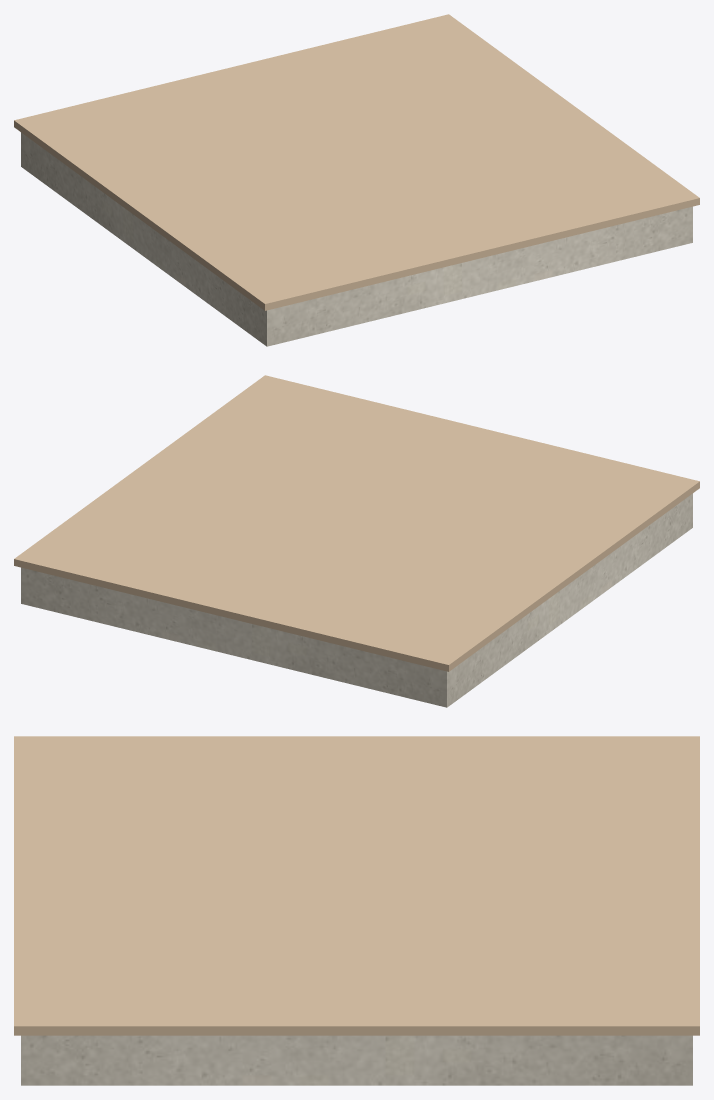
File: floor_tile.glb
The picture shows the model from 3 angles, top to bottom: view 1: azimuth 30°, elevation 25°; view 2: azimuth 150°, elevation 25°; view 3: azimuth 270°, elevation 25°; orthographic projection. The views are drawn at different scales.
Visible parts, largest first — view 1: floor_tile_floor, floor_tile_plaster; view 2: floor_tile_floor, floor_tile_plaster; view 3: floor_tile_floor, floor_tile_plaster.
Part boxes in pixels (left/top/right/bottom): floor_tile_floor: left=14, top=14, right=699, bottom=310; floor_tile_plaster: left=21, top=132, right=692, bottom=346; floor_tile_floor: left=14, top=375, right=699, bottom=671; floor_tile_plaster: left=21, top=493, right=692, bottom=707; floor_tile_floor: left=14, top=736, right=699, bottom=1035; floor_tile_plaster: left=21, top=1035, right=692, bottom=1085.
Size of the model in its own units: 2 by 0.2 by 2.
2 materials, 1 textured.
